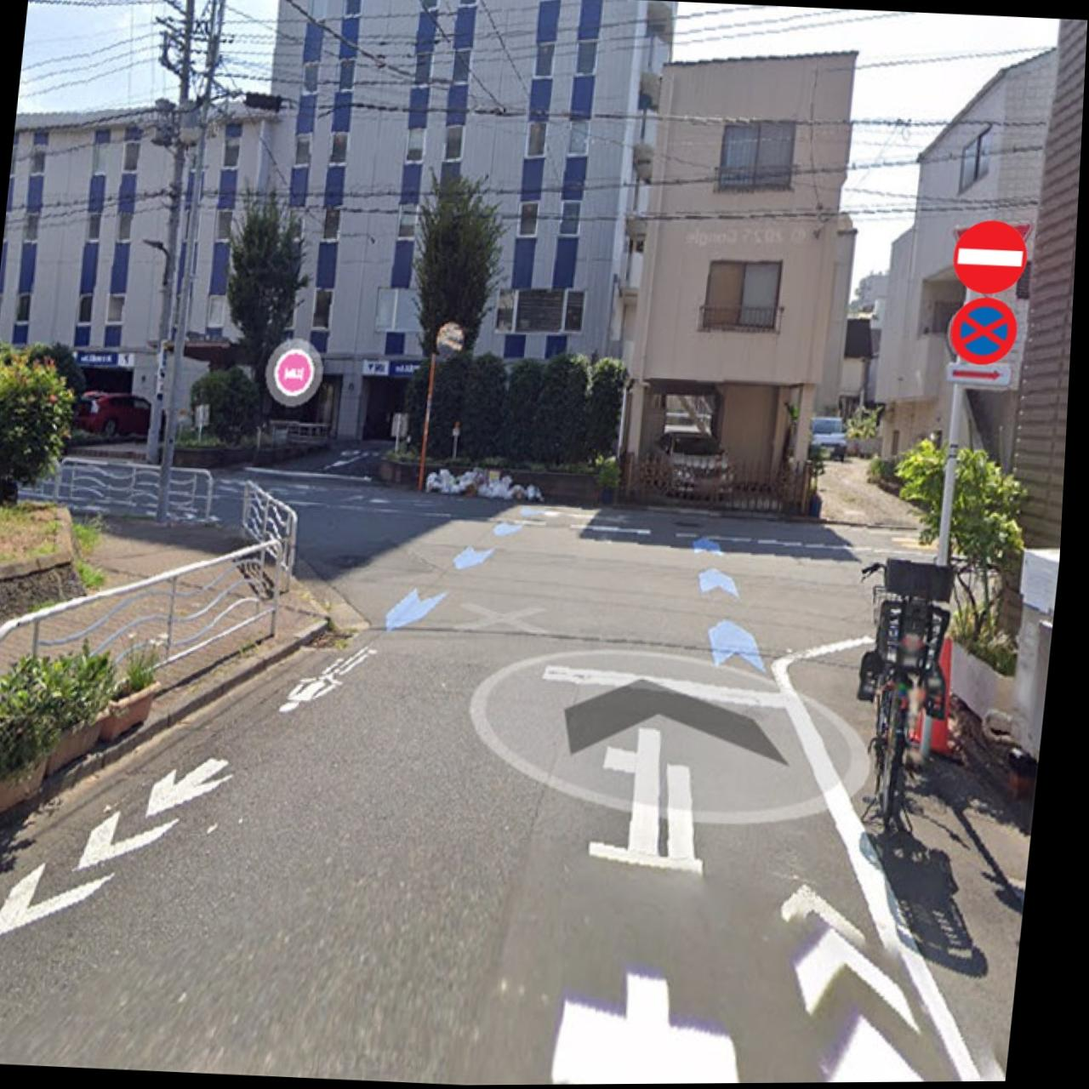barrier: (945, 214, 1035, 295)
stop_sign: (942, 299, 1022, 371)
